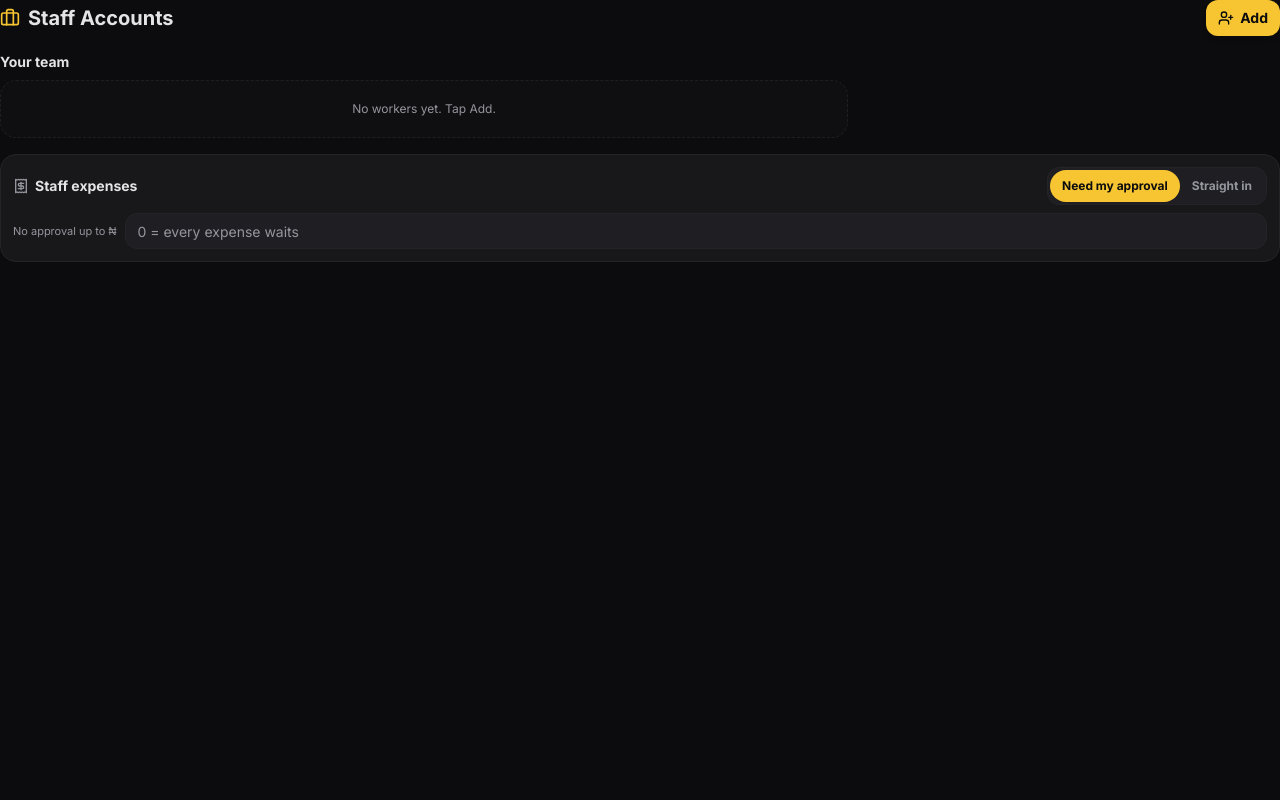
the worker form on a phone › scrolls its middle
Click the button with aria-label "Add Staff Member". click: {"x": 1243, "y": 18}
box: [1206,0,1279,36]
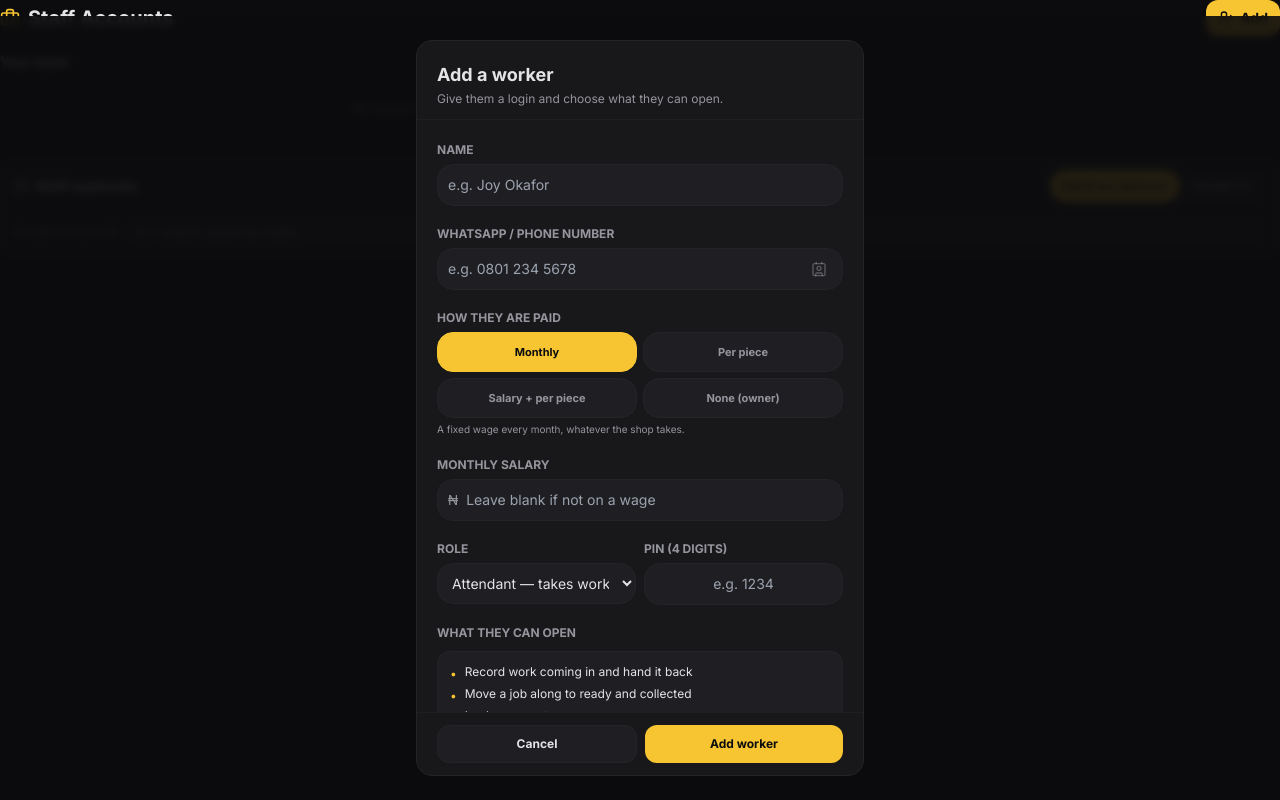
Now the element with placeholder "e.g. Joy Okafor" is shown, box [417,120,863,712]
